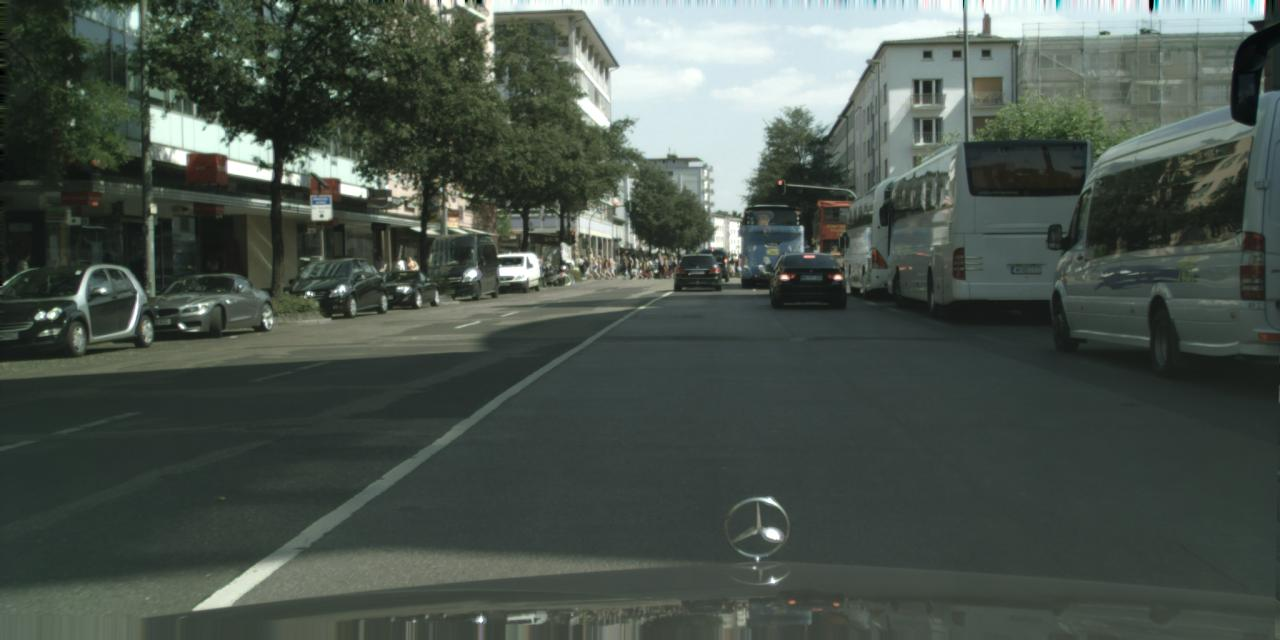ped: (10, 254, 34, 313), (0, 256, 17, 314), (372, 254, 387, 294), (393, 257, 408, 295), (406, 257, 418, 289), (620, 252, 630, 278), (666, 252, 676, 277), (654, 253, 664, 278), (576, 254, 586, 277), (606, 255, 616, 278), (626, 254, 635, 279), (734, 254, 744, 276), (728, 252, 737, 274), (640, 255, 649, 277), (596, 255, 605, 277), (660, 256, 669, 276), (632, 256, 640, 278), (602, 255, 610, 277), (590, 256, 598, 277), (582, 256, 590, 276), (646, 258, 653, 276)
